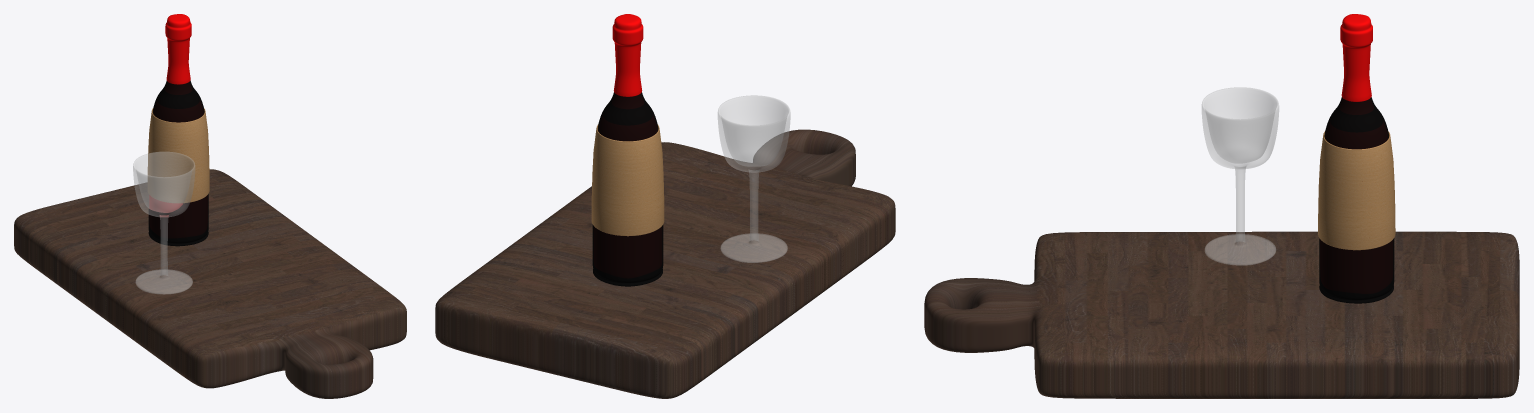
The model's file is winet.glb.
3 renders of one model, left to right at view 1: azimuth 30°, elevation 25°; view 2: azimuth 150°, elevation 25°; view 3: azimuth 270°, elevation 25°, orthographic. The views are drawn at different scales.
Parts seen in each view (by area): view 1: Plane_8, Circle_6, Circle.003_3, Circle.001_1, Circle.002_2, Circle.004_4; view 2: Plane_8, Circle_6, Circle.003_3, Circle.001_1, Circle.002_2; view 3: Plane_8, Circle_6, Circle.003_3, Circle.001_1, Circle.002_2.
Part boxes in pixels (x1,y1,x2,y2): Plane_8: [14, 169, 406, 398]; Circle_6: [133, 152, 194, 294]; Circle.003_3: [147, 108, 209, 203]; Circle.001_1: [148, 80, 208, 246]; Circle.002_2: [165, 14, 191, 84]; Circle.004_4: [149, 195, 182, 216]; Plane_8: [435, 129, 895, 398]; Circle_6: [718, 95, 790, 262]; Circle.003_3: [591, 124, 664, 236]; Circle.001_1: [592, 92, 663, 286]; Circle.002_2: [612, 14, 643, 96]; Plane_8: [924, 231, 1519, 398]; Circle_6: [1202, 87, 1278, 265]; Circle.003_3: [1318, 131, 1395, 250]; Circle.001_1: [1319, 97, 1394, 303]; Circle.002_2: [1340, 14, 1372, 101].
Bounding box in the file's own units: 9.78 × 11.34 × 18.95.
6 materials, 2 textured.
